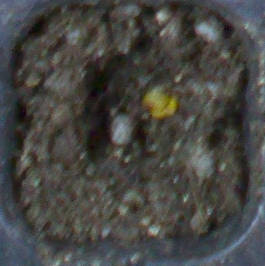pepper seed: (64, 36, 241, 155), (59, 33, 228, 145)
